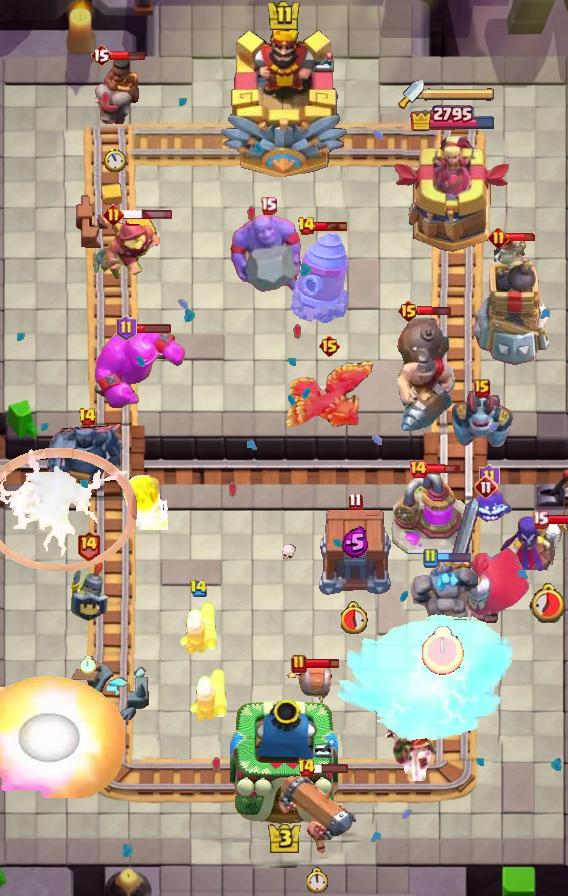archer-queen: (227, 211, 309, 299)
axe: (498, 516, 568, 576)
bar: (391, 132, 515, 256)
barbarian-evolution: (0, 448, 136, 571)
battle-healer: (277, 771, 359, 855)
bomb: (316, 510, 394, 596)
clone: (91, 324, 187, 410)
electro-spirit: (341, 526, 369, 559)
elite-barbarian: (89, 52, 141, 126)
elixir: (422, 625, 464, 674), (529, 581, 568, 623), (341, 602, 369, 634), (307, 867, 329, 893), (104, 148, 126, 172), (80, 656, 96, 674)
elixir-golem-small: (449, 390, 515, 450)
emote: (121, 208, 173, 219), (426, 461, 462, 474), (417, 303, 452, 316), (304, 657, 339, 670), (110, 50, 146, 62), (313, 220, 349, 232), (313, 762, 349, 774), (136, 322, 173, 333), (436, 553, 472, 564), (506, 232, 538, 242), (546, 513, 568, 526)
fireball: (92, 220, 166, 282)
golemite: (42, 419, 132, 495)
king-tower: (219, 23, 349, 181), (230, 698, 338, 826)
king-tower-bar: (424, 87, 496, 101)
knight: (284, 664, 334, 706)
magic-archer: (289, 231, 349, 325)
mega-knight: (334, 611, 518, 747)
mother-witch: (282, 359, 376, 433)
pekka: (390, 474, 468, 556)
princess: (67, 561, 109, 625)
selected: (409, 103, 497, 131)
skeleton-king: (381, 715, 455, 781)
spear-goblin: (465, 487, 513, 527)
text: (76, 531, 101, 561), (474, 475, 498, 499), (115, 315, 137, 341), (479, 464, 501, 490), (397, 299, 420, 323), (319, 334, 342, 358), (90, 43, 112, 67), (488, 227, 509, 249), (103, 203, 124, 224), (408, 459, 428, 479), (296, 216, 315, 236), (79, 407, 98, 427), (296, 758, 315, 778), (259, 197, 277, 216), (189, 579, 208, 597), (422, 548, 438, 568), (291, 654, 307, 674), (531, 511, 548, 529), (474, 379, 490, 397), (349, 493, 364, 511)
tombstone: (177, 599, 219, 657), (187, 666, 229, 724)
valkyrie: (0, 676, 126, 798), (120, 474, 168, 530)
valkyrie-evolution: (407, 561, 479, 629)
wall-breaker-evolution: (440, 495, 532, 629)
wizard: (393, 316, 457, 434)
zappy: (468, 233, 555, 369)
